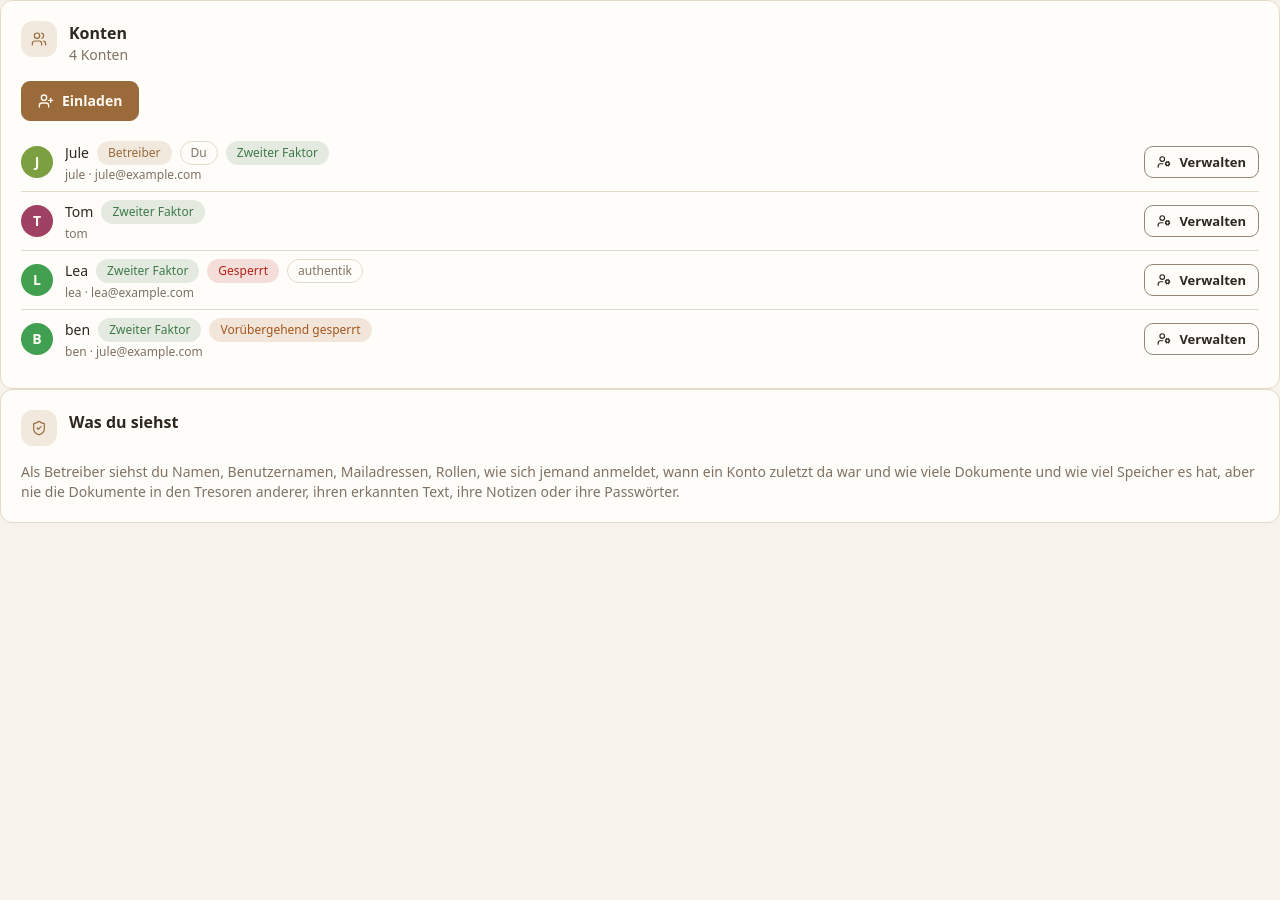
Test: the accounts › invite a person with the button above the list
The image size is (1280, 900).
Click the button "Einladen": (80, 101) x1=21 y1=81 x2=139 y2=121
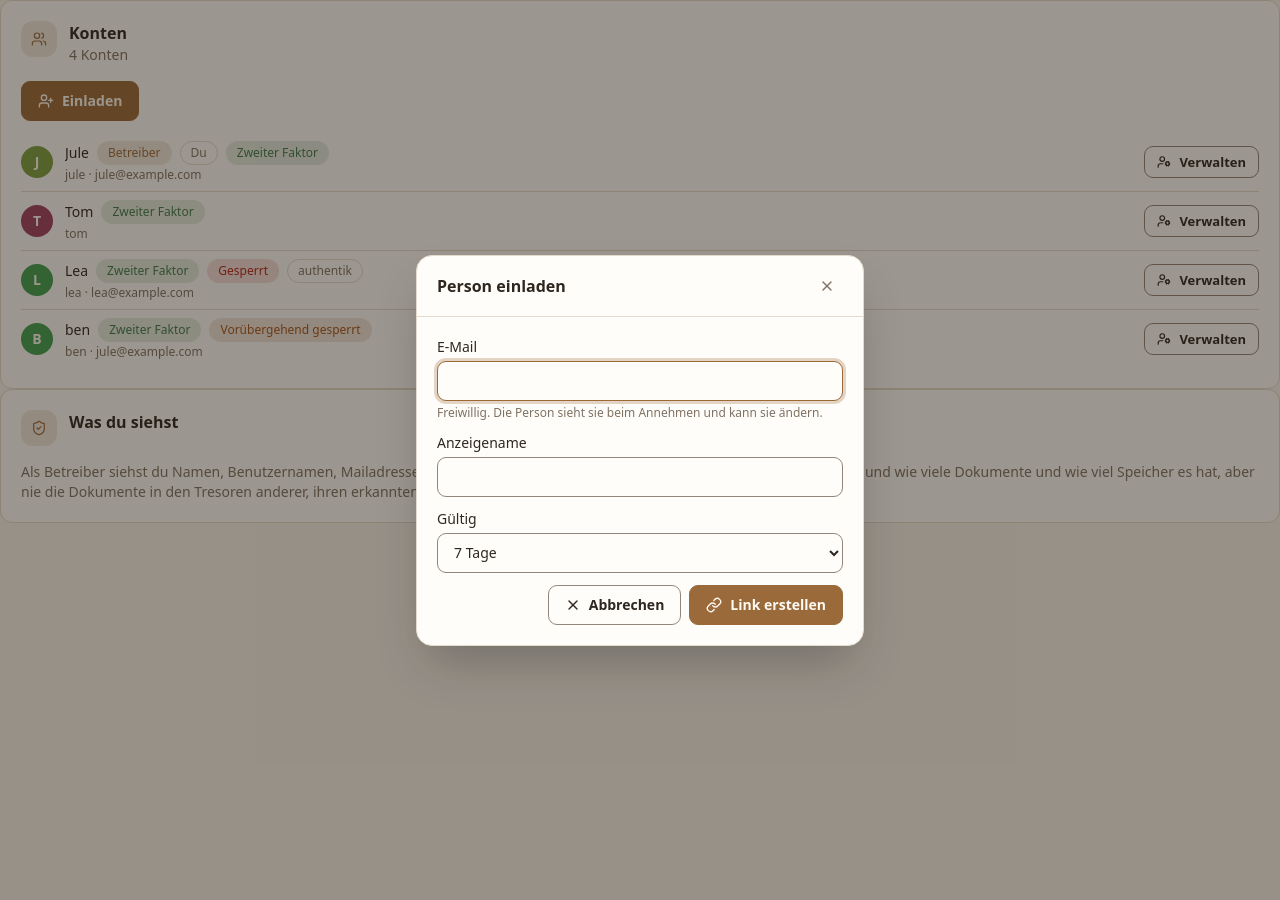
expect the dialog is shown: met, box x1=416 y1=254 x2=864 y2=646
